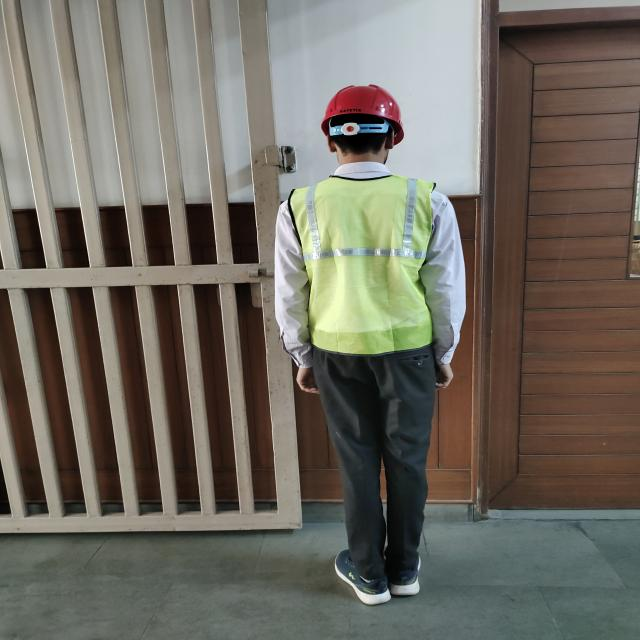safe: (274, 85, 466, 605)
